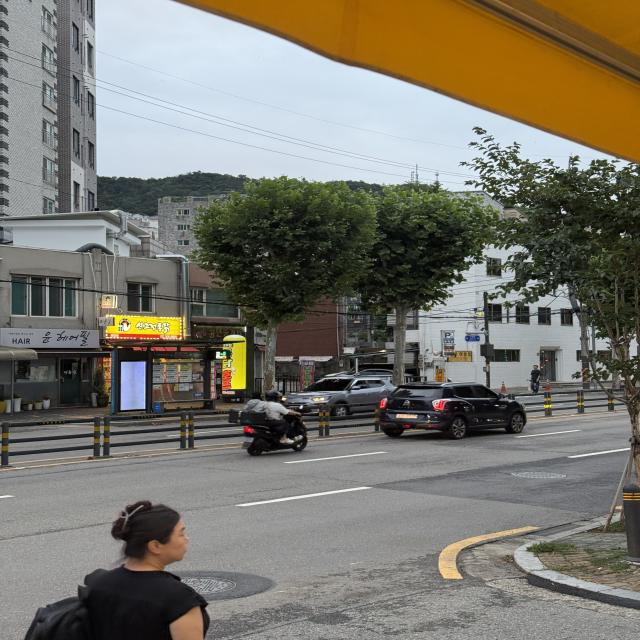car: (373, 372, 531, 446), (264, 363, 414, 423)
motorcycle: (218, 387, 326, 461)
